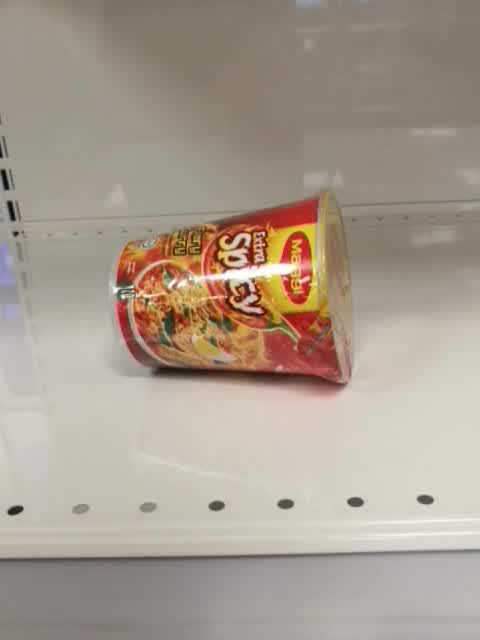maggi: (107, 187, 353, 390)
